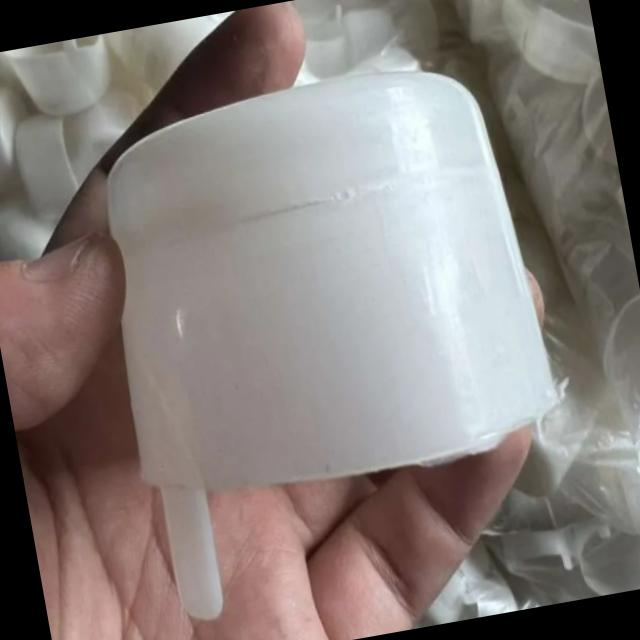TutupGalon: (74, 44, 586, 626)
